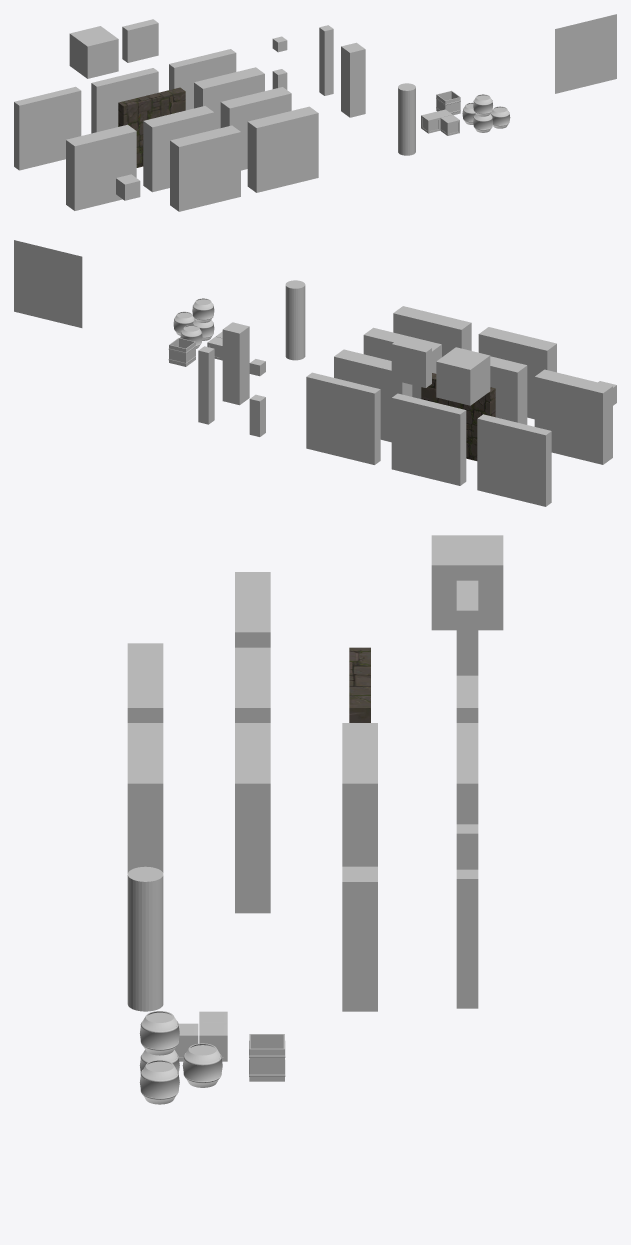
File: decors1.2.fbx
The picture shows the model from 3 angles, top to bottom: view 1: azimuth 30°, elevation 25°; view 2: azimuth 150°, elevation 25°; view 3: azimuth 270°, elevation 25°; orthographic projection. The views are drawn at different scales.
Parts seen in each view (by area): view 1: wall1, wall5, wall10_small, wall10, wall2.001, wall6, wall8, wall2, block2, wall3, wall7, wall4 (+12 smaller); view 2: wall10_small, wall8, wall10, wall4, wall2.001, wall5, wall3, block2, wall1, pillar2_large, wall6, wall8_small (+7 smaller); view 3: wall2, block2, wall1, pillar2_large, Cylinder, wall3, pillar2, wall5, wall10_small, wall6, wall4, wall8_small (+6 smaller).
Part boxes in pixels (<box>): wall1: <box>247,106,318,192</box>; wall5: <box>170,125,240,211</box>; wall10_small: <box>66,124,136,210</box>; wall10: <box>14,86,81,170</box>; wall2.001: <box>555,14,616,93</box>; wall6: <box>143,106,214,192</box>; wall8: <box>91,68,158,133</box>; wall2: <box>220,87,291,170</box>; block2: <box>69,26,118,78</box>; wall3: <box>194,67,264,129</box>; wall7: <box>118,87,185,167</box>; wall4: <box>169,49,236,110</box>; wall10_small: <box>534,369,612,464</box>; wall8: <box>391,393,466,485</box>; wall10: <box>477,414,551,506</box>; wall4: <box>306,372,380,464</box>; wall2.001: <box>14,240,82,327</box>; wall5: <box>478,327,556,419</box>; wall3: <box>334,349,412,442</box>; block2: <box>436,347,490,405</box>; wall1: <box>393,306,471,356</box>; pillar2_large: <box>222,322,249,405</box>; wall6: <box>490,356,527,424</box>; wall8_small: <box>391,340,431,387</box>; wall2: <box>235,723,270,913</box>; block2: <box>431,535,503,630</box>; wall1: <box>127,723,163,873</box>; pillar2_large: <box>342,866,377,1011</box>; Cylinder: <box>127,866,163,1011</box>; wall3: <box>342,723,377,866</box>; pillar2: <box>456,869,478,1008</box>; wall5: <box>127,647,163,722</box>; wall10_small: <box>235,572,270,647</box>; wall6: <box>235,647,270,722</box>; wall4: <box>456,723,478,869</box>; wall8_small: <box>456,580,478,675</box>.
Bounding box in the file's own units: 3500 × 700 × 1050.
